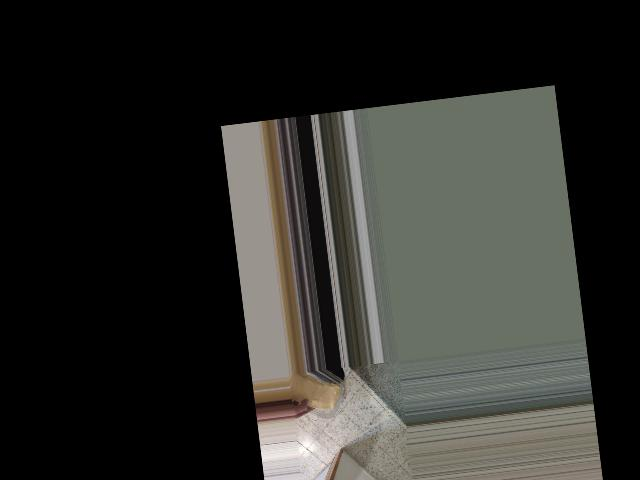cheese: (287, 366, 347, 422)
